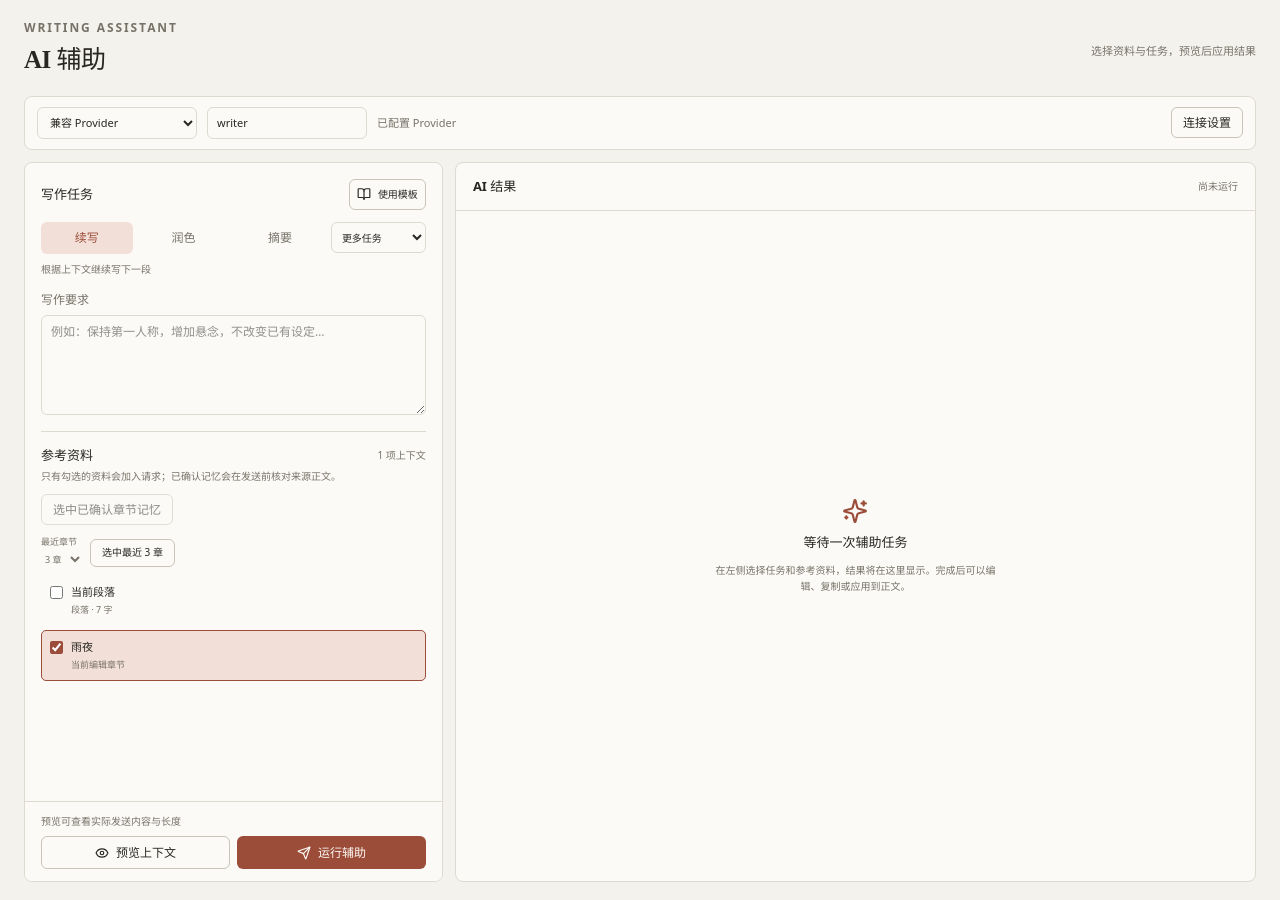
Test: preserves provider fields and results across settings dismissal without persisting the key
Click the button "运行辅助" at [331, 852], box [237,836,426,869]
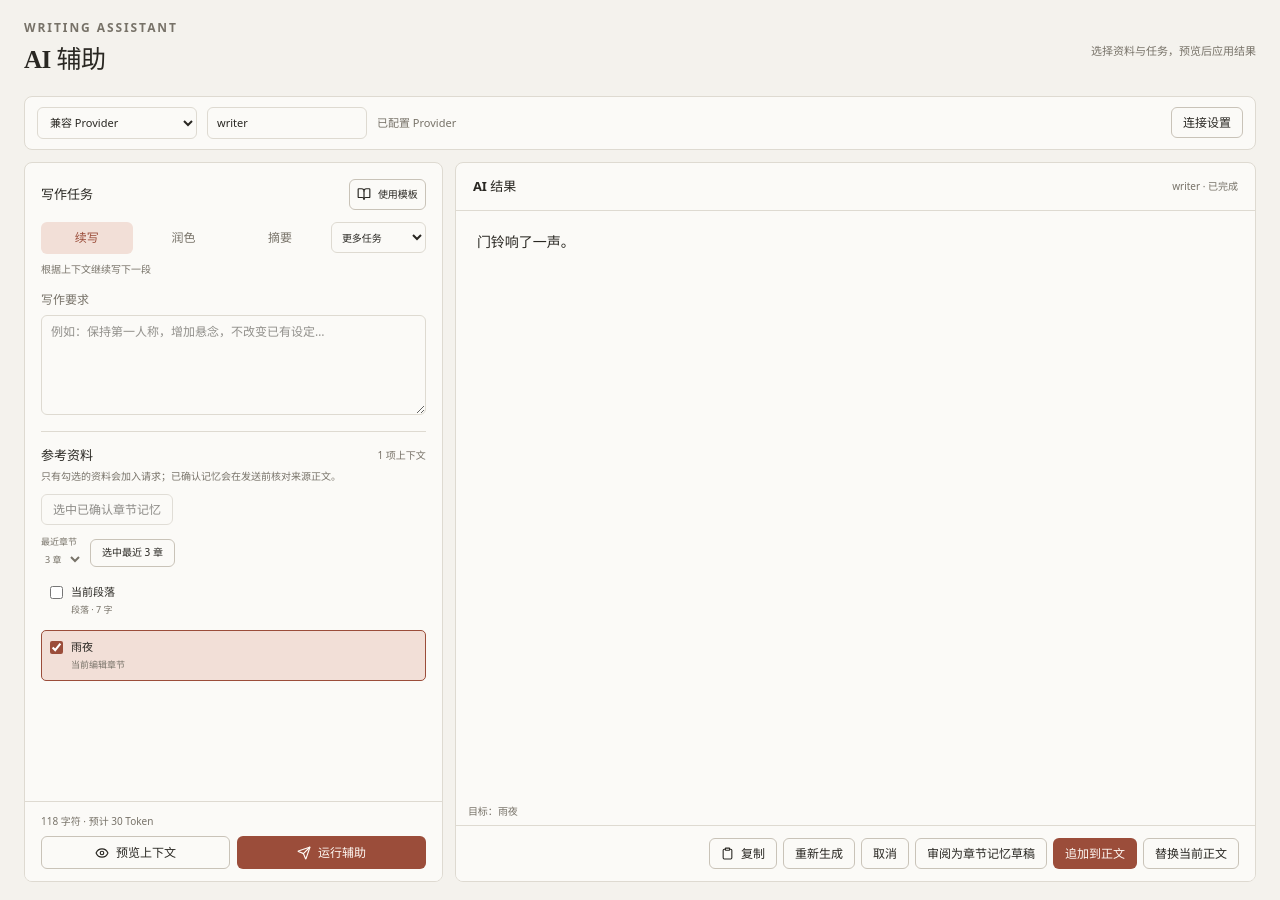
Check: the text box showing "门铃响了一声。" is shown, box [456,211,1255,798]
Click the button "连接设置" at [1207, 123], box [1171,107,1243,138]
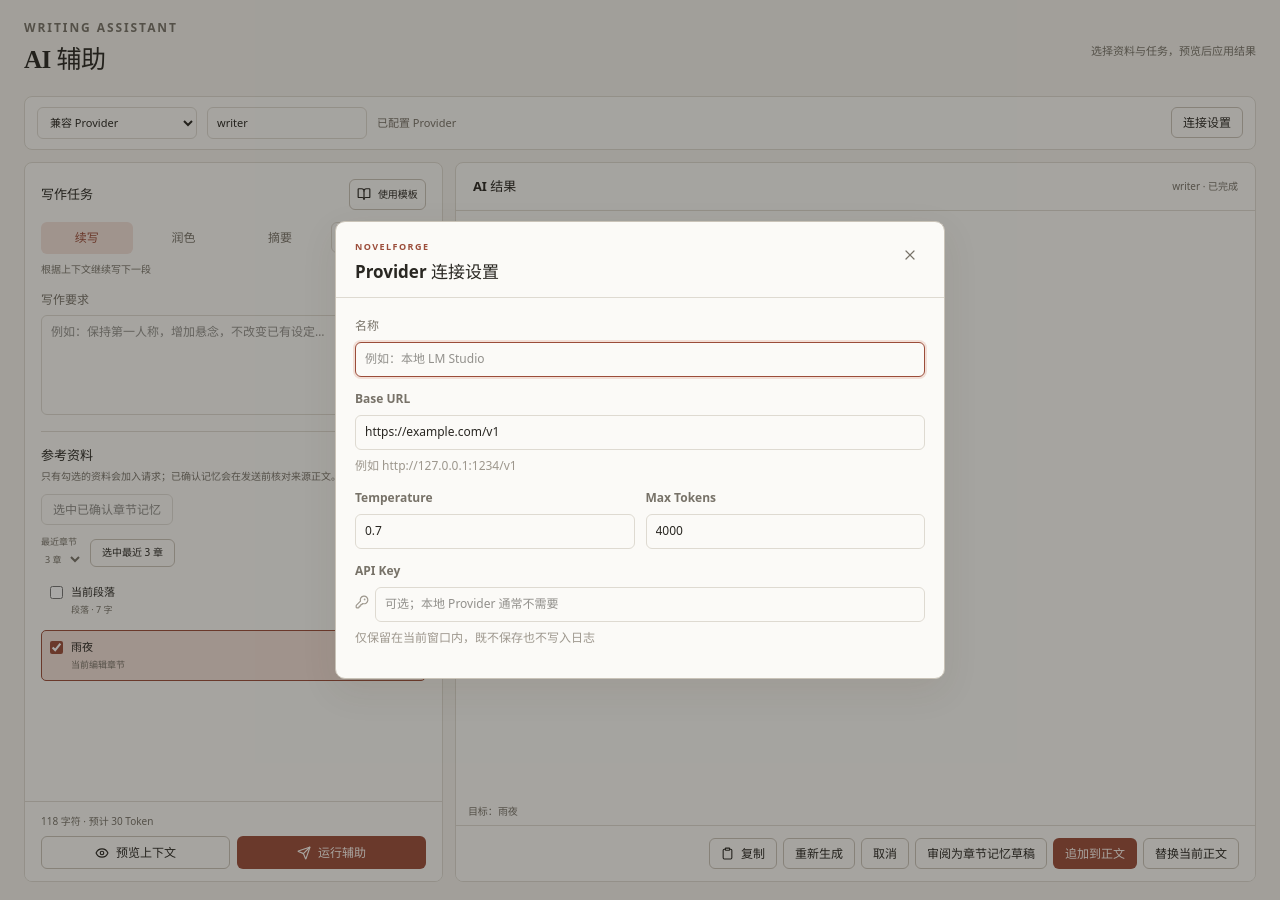
Type "synthetic-key" into the password field labelled "API Key 仅保留在当前窗口内，既不保存也不写入日志" at [650, 604], box [375,587,925,622]
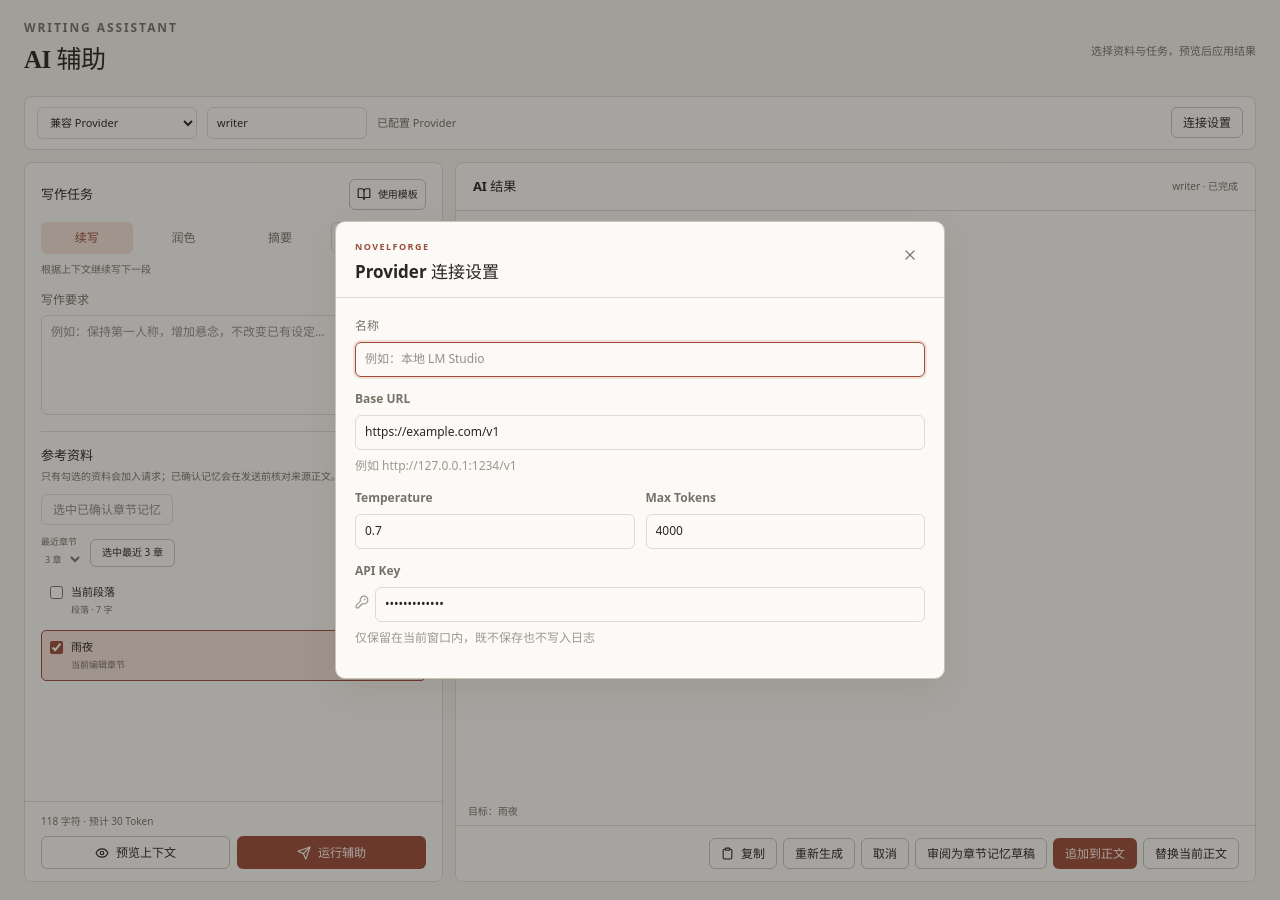
Replace the text in the number field labelled "Temperature" with "0" at [495, 532], box [355,514,634,549]
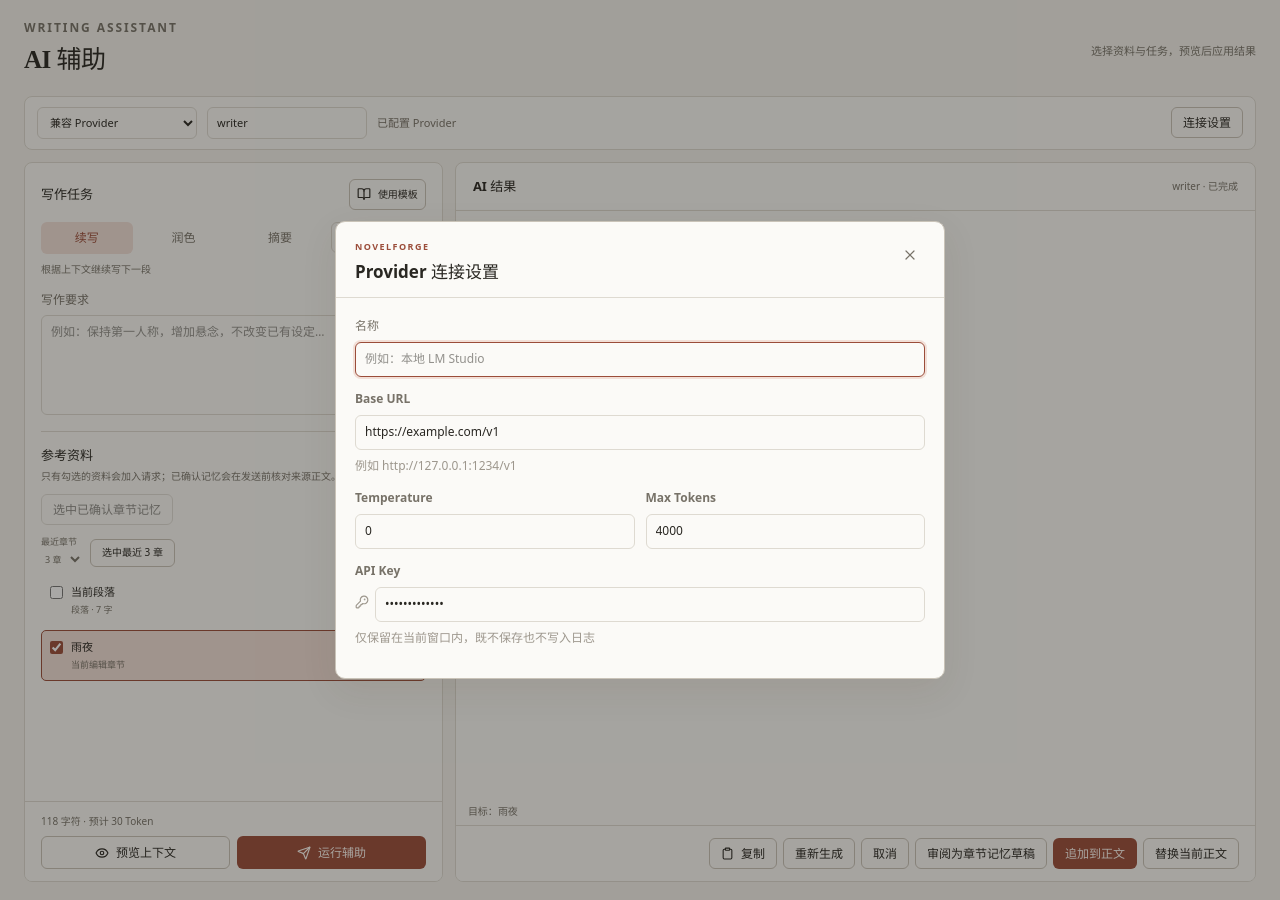
Press Escape
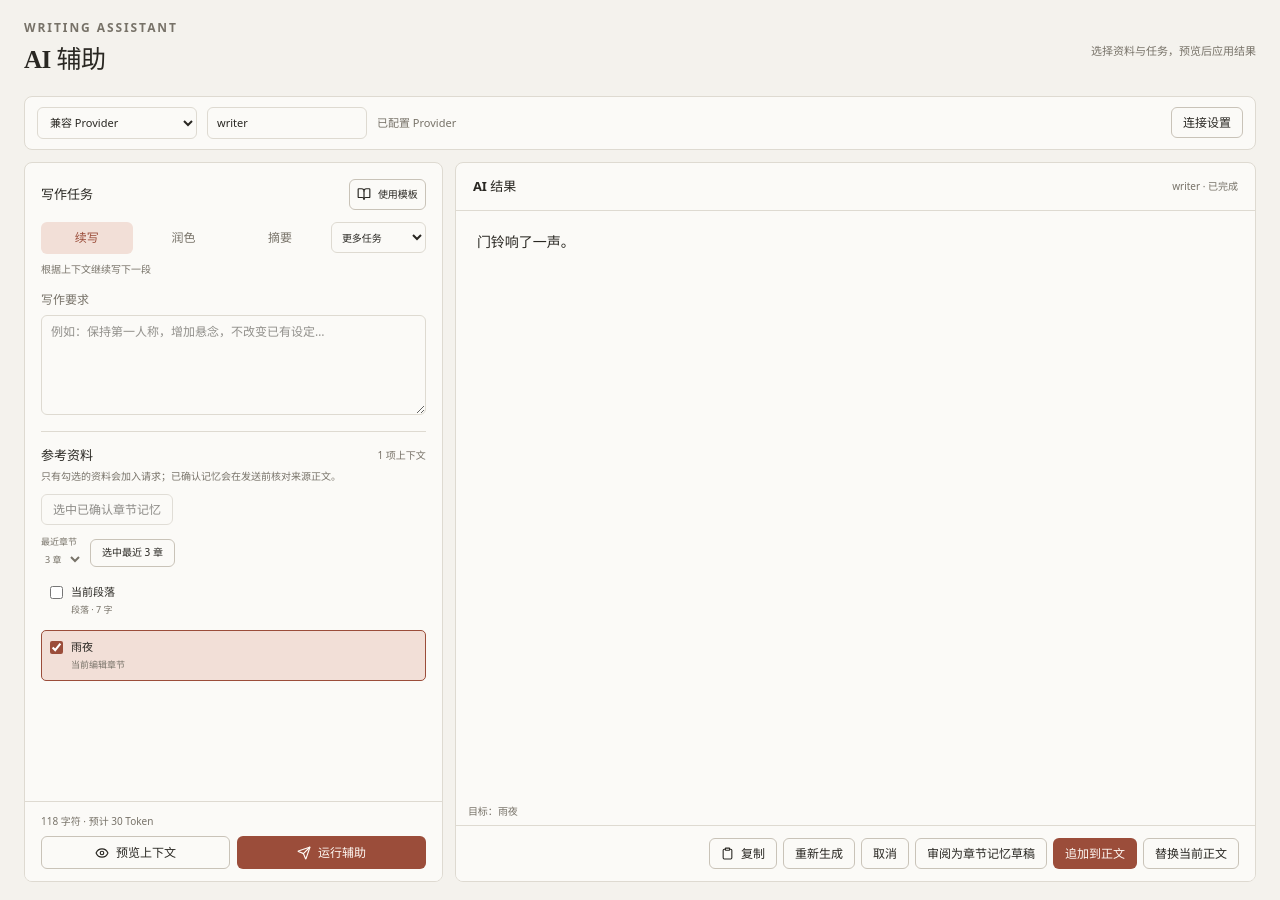
Check: the text box showing "门铃响了一声。" is shown, box [456,211,1255,798]
Check: the dialog is gone
Click the button "连接设置" at [1207, 123], box [1171,107,1243,138]
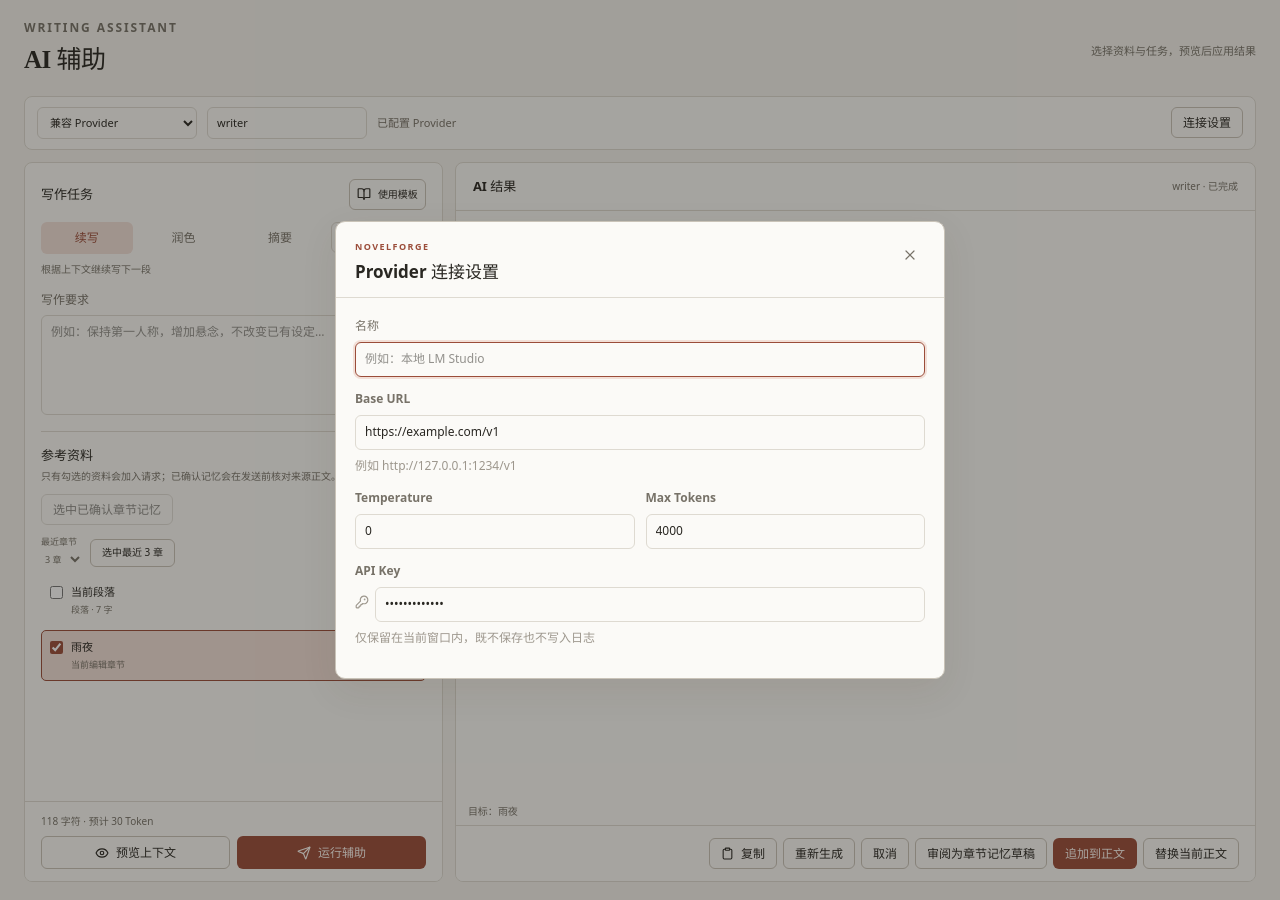
Check: the password field labelled "API Key 仅保留在当前窗口内，既不保存也不写入日志" holds "synthetic-key", box [375,587,925,622]
